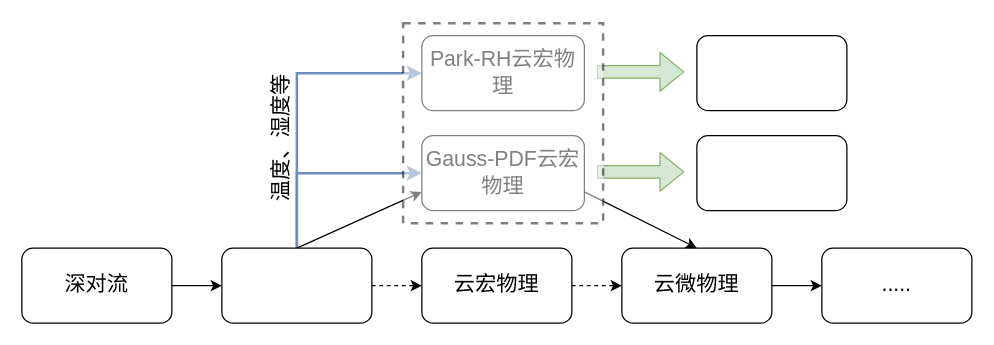
The diagram is 994 pixels wide and 345 high, and some of its shapes have lost their labels. Each missing label, with the centre of its shape:
Gauss-PDF云量: point (771, 172)
Park-RH云量: point (771, 72)
浅对流: point (296, 285)
